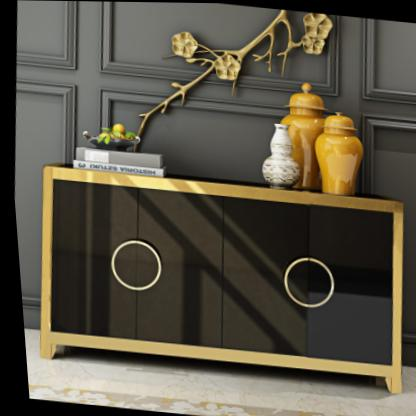Ceramic floor: (19, 330, 416, 416)
Cupboard: (33, 166, 402, 393)
